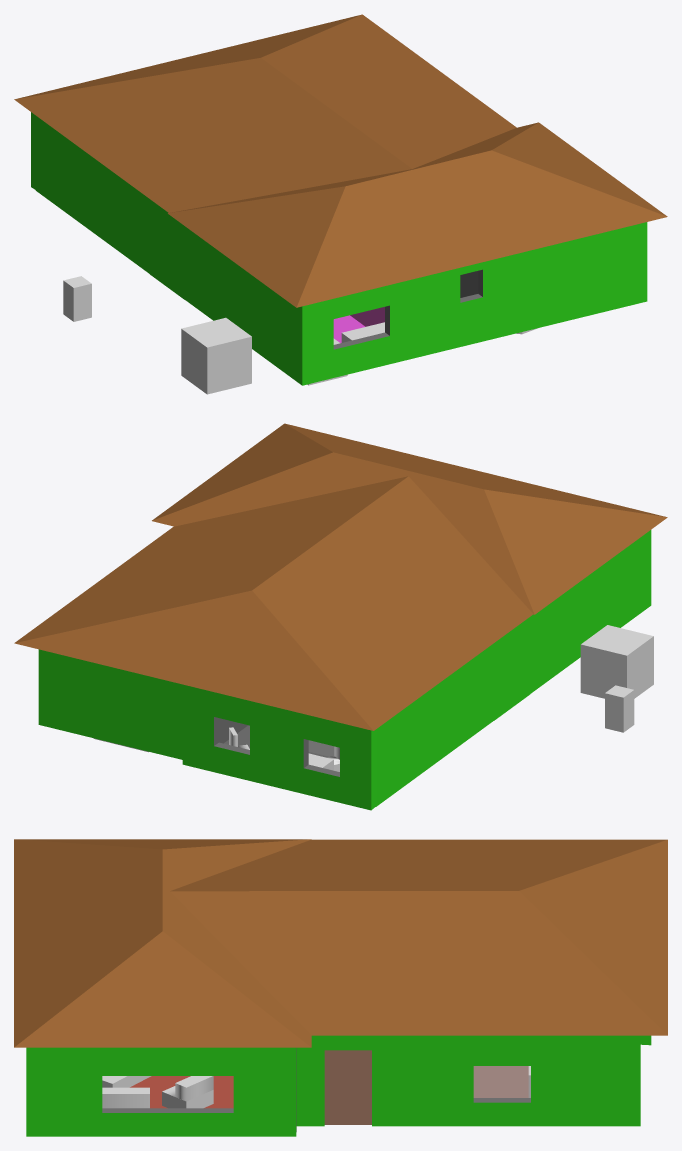
The model's file is yurihouseForPrototyping.fbx.
3 renders of one model, top to bottom at view 1: azimuth 30°, elevation 25°; view 2: azimuth 150°, elevation 25°; view 3: azimuth 270°, elevation 25°, orthographic. The views are drawn at different scales.
Visible parts, largest first — view 1: Cone, Cube.005, Cube, Cube.021; view 2: Cone, Cube.005, Cube, Cube.021; view 3: Cone, Cube.005, Plane.005, Cube.041, Cube.037, Cube.042.
Part boxes in pixels (x1,y1,x2,y2): Cone: (14, 14, 667, 307); Cube.005: (31, 112, 647, 385); Cube: (181, 317, 251, 394); Cube.021: (63, 276, 91, 321); Cone: (14, 423, 667, 730); Cube.005: (38, 530, 651, 810); Cube: (580, 625, 653, 698); Cube.021: (605, 685, 634, 732); Cone: (14, 839, 667, 1047); Cube.005: (26, 1035, 651, 1136); Plane.005: (130, 1050, 528, 1124); Cube.041: (162, 1076, 213, 1108); Cube.037: (102, 1087, 149, 1108); Cube.042: (102, 1076, 151, 1087).
Bounding box in the file's own units: 2079 × 690 × 2190.
